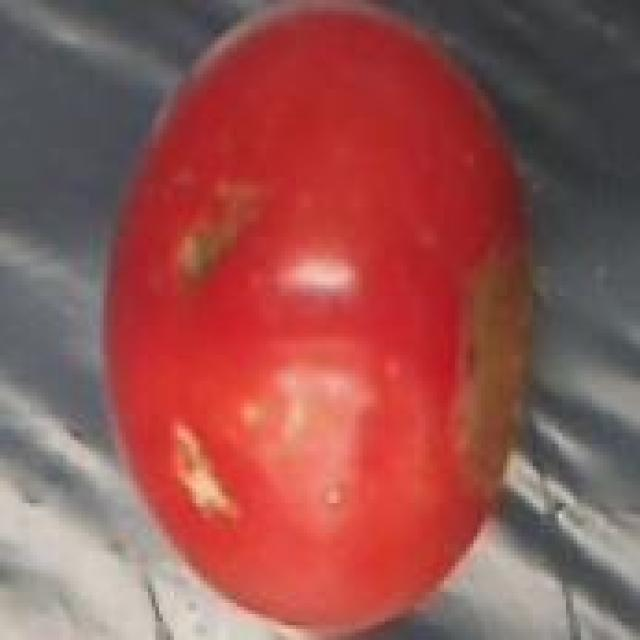overripe tomato: (96, 0, 566, 640)
